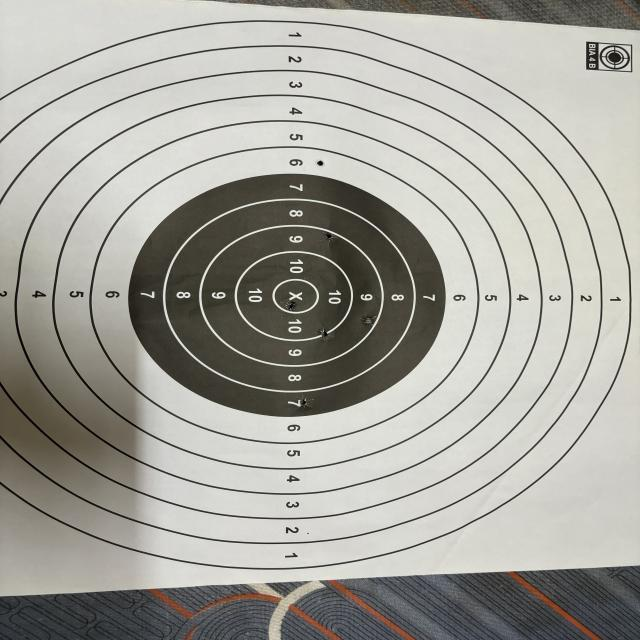bullet: (318, 327, 333, 339), (284, 301, 297, 311), (360, 316, 372, 324), (324, 232, 332, 240), (300, 400, 308, 408), (316, 160, 324, 166)
target: (4, 0, 636, 580)
